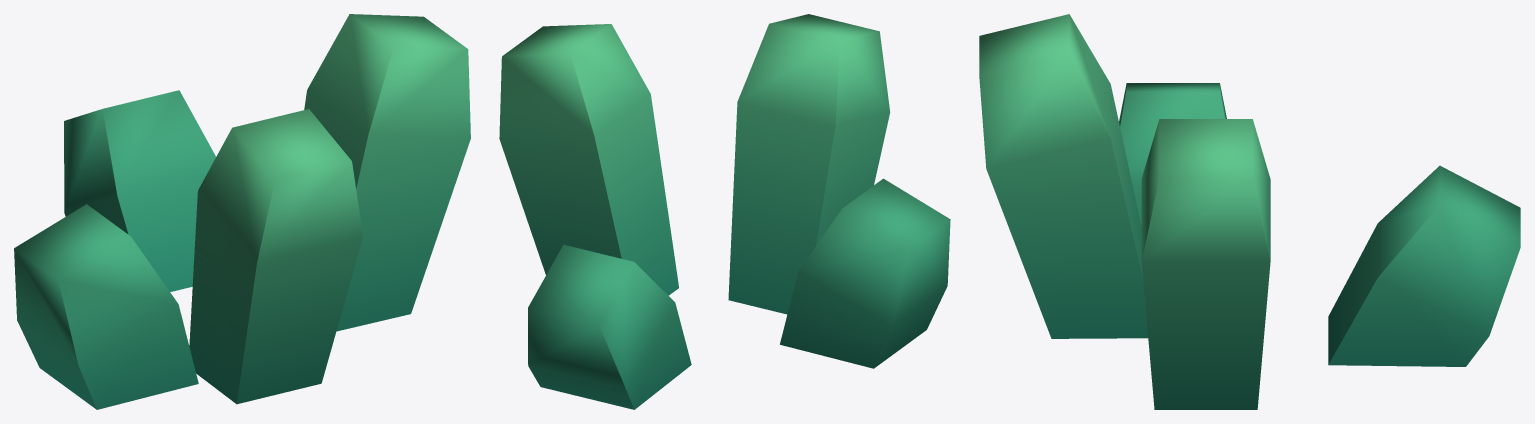
Rendered from pk_grass.glb.
3 views of the same model, side by side, from view 1: azimuth 30°, elevation 25°; view 2: azimuth 150°, elevation 25°; view 3: azimuth 270°, elevation 25° (orthographic). The views are drawn at different scales.
Visible parts, largest first — view 1: grass; view 2: grass; view 3: grass.
Boxes of the visible parts, bbox=[...] form: grass: bbox=[14, 14, 470, 409]; grass: bbox=[499, 14, 950, 409]; grass: bbox=[979, 14, 1520, 409].
Bounding box in the file's own units: 0.5187 × 0.3139 × 0.5437.
1 material, 1 textured.
